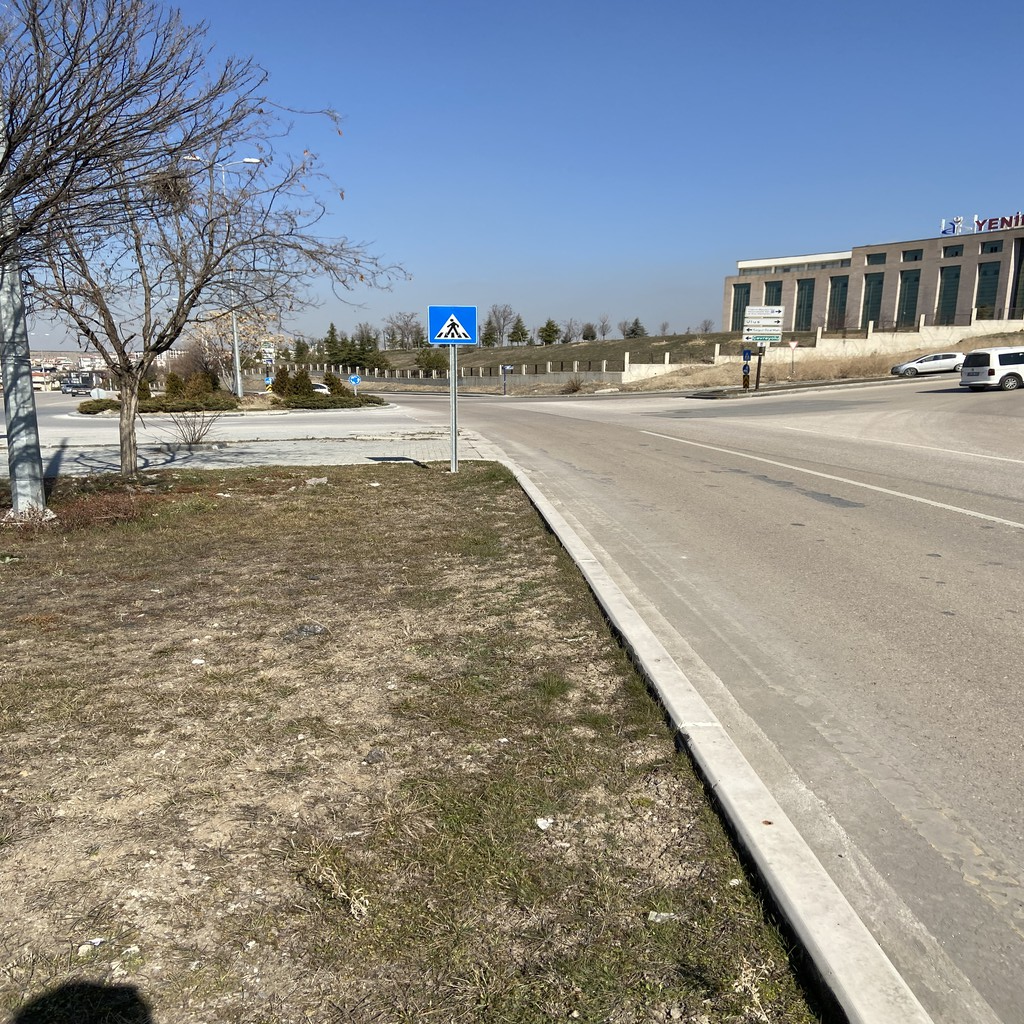Yaya Gecidi: (425, 306, 480, 343)
